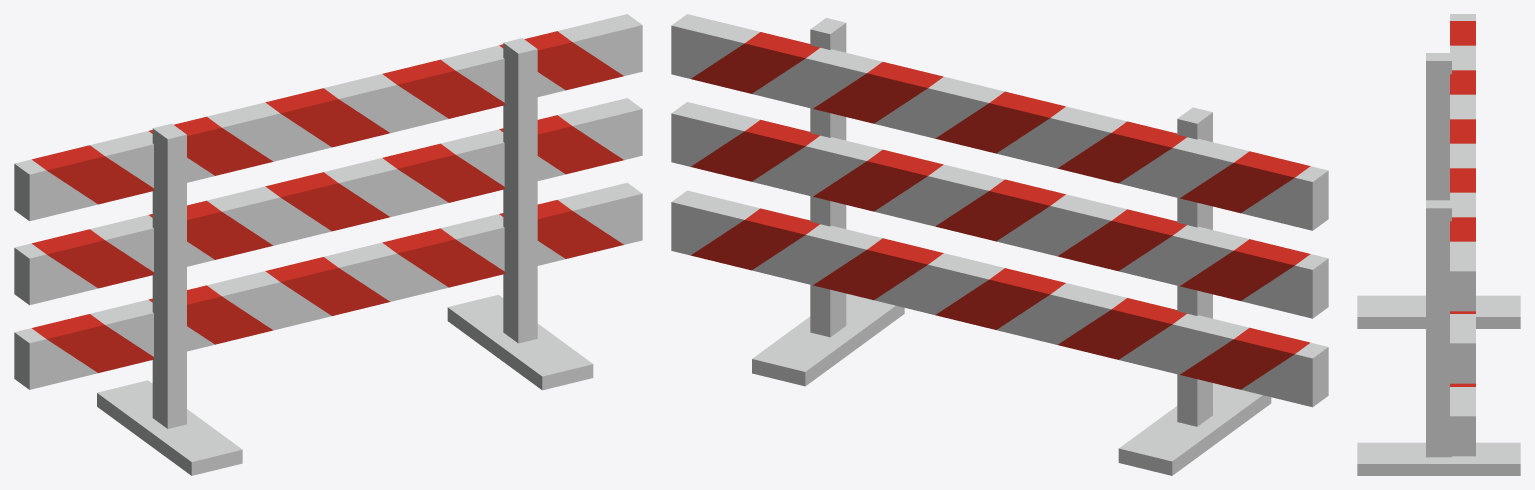
The model's file is SM_Obstacle_C_Wall_01.fbx.
The picture shows the model from 3 angles, left to right: view 1: azimuth 30°, elevation 25°; view 2: azimuth 150°, elevation 25°; view 3: azimuth 270°, elevation 25°; orthographic projection. The views are drawn at different scales.
Visible parts, largest first — view 1: SM_Obstacle_C_Wall_01; view 2: SM_Obstacle_C_Wall_01; view 3: SM_Obstacle_C_Wall_01.
Part boxes in pixels (left/top/right/bottom): SM_Obstacle_C_Wall_01: left=14, top=14, right=642, bottom=475; SM_Obstacle_C_Wall_01: left=671, top=14, right=1328, bottom=475; SM_Obstacle_C_Wall_01: left=1357, top=14, right=1520, bottom=475.
Bounding box in the file's own units: 227 × 107 × 60.8.
